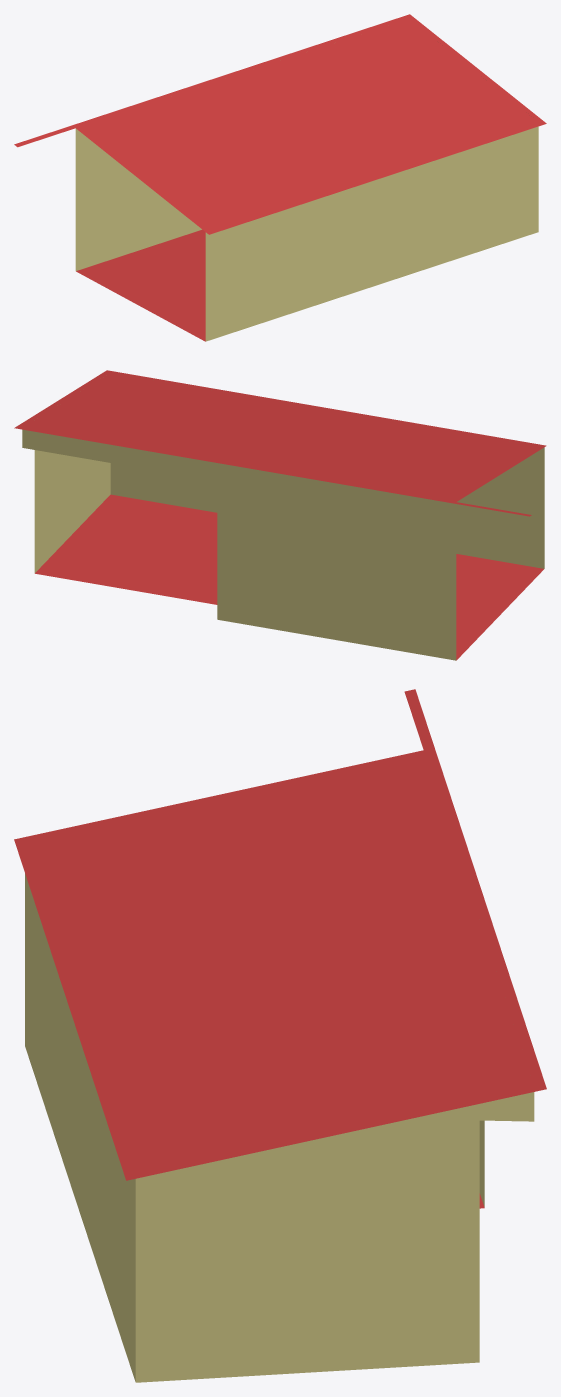
3 views of the same model, one above another, from view 1: azimuth 30°, elevation 25°; view 2: azimuth 150°, elevation 25°; view 3: azimuth 270°, elevation 25° (orthographic). The views are drawn at different scales.
Size of the model in its own units: 22.6 by 11.98 by 6.8.
